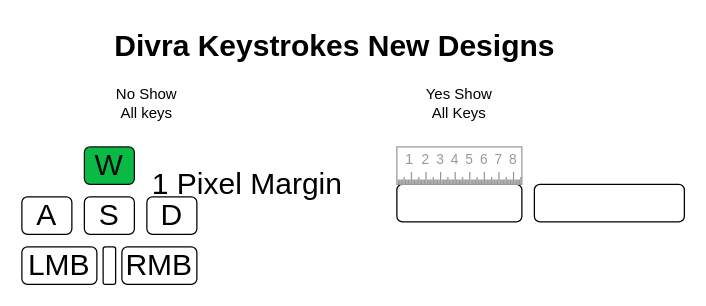
Image size: 706x306. Some labels were removed from this diagram. The shapes that lost their labels are listed below. From the top down, each one's centre as x and y in pixels, then its label:
point (459, 202): W A S D
point (608, 202): LMB CMB
